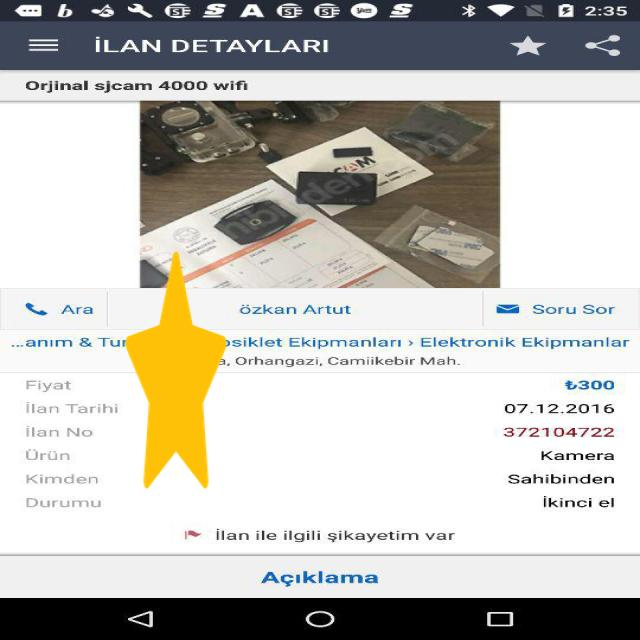forced continuity: (126, 251, 226, 489)
